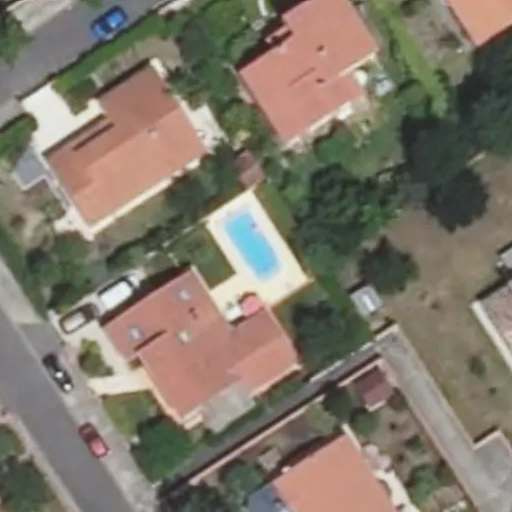pool: (225, 223, 292, 267)
